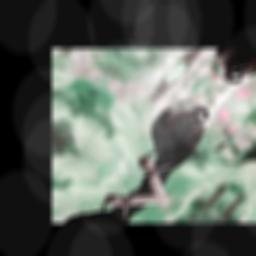Crow: (110, 92, 226, 196)
